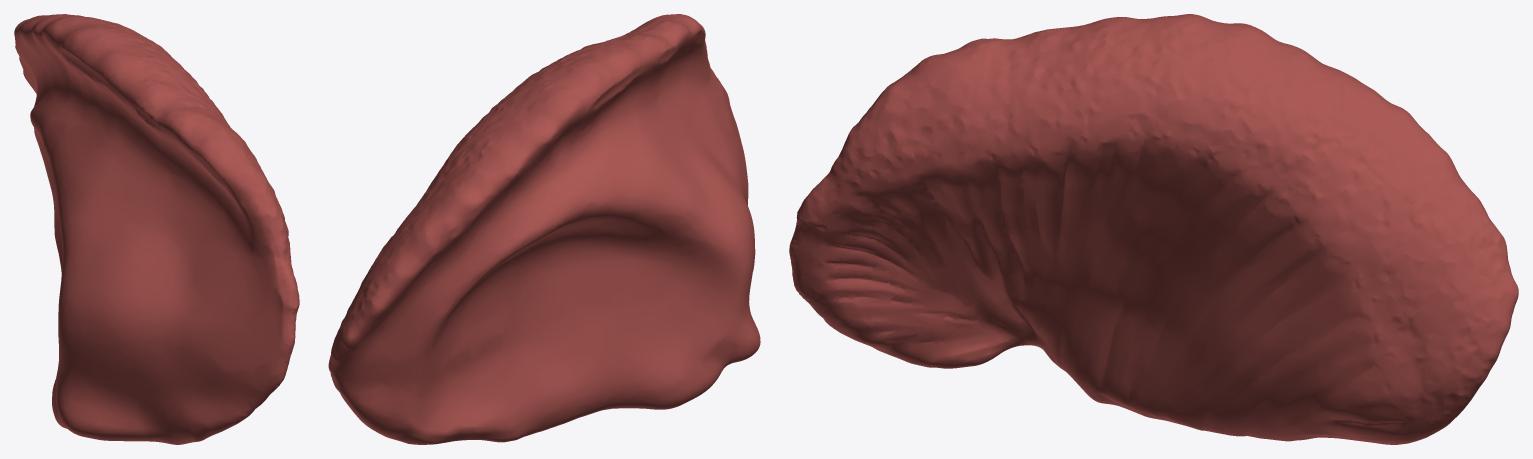
File: FMA72909.glb
3 views of the same model, side by side, from view 1: azimuth 30°, elevation 25°; view 2: azimuth 150°, elevation 25°; view 3: azimuth 270°, elevation 25° (orthographic). The views are drawn at different scales.
Visible parts, largest first — view 1: FMA72909; view 2: FMA72909; view 3: FMA72909.
Part boxes in pixels (x1,y1,x2,y2): FMA72909: [14, 14, 299, 444]; FMA72909: [328, 14, 760, 444]; FMA72909: [789, 14, 1518, 444].
Bounding box in the file's own units: 0.0217 × 0.0314 × 0.0511.
